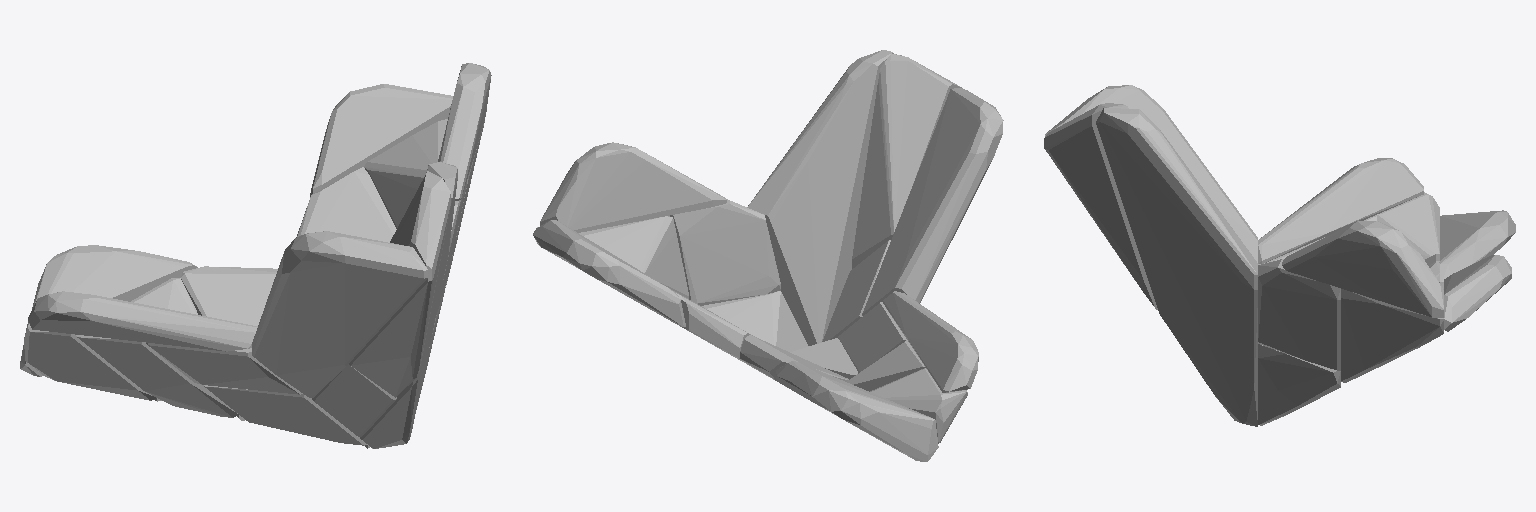
URDF robot description (root):
<robot name="root">
  <link name="link_thingiverse~corner_protector_1347877_convex_piece_0">
    <inertial>
      <origin rpy="0 0 0" xyz="0 0 0"/>
      <mass value="3.27E-03"/>
      <inertia ixx="1.69E-06" ixy="6.46E-07" ixz="-3.45E-07" iyy="8.53E-07" iyz="-6.84E-07" izz="1.66E-06"/>
    </inertial>
    <visual>
      <origin rpy="0 0 0" xyz="0 0 0"/>
      <geometry>
        <mesh filename="thingiverse~corner_protector_1347877_convex_piece_0.obj" scale="1.0000E+00 1.0000E+00 1.0000E+00"/>
      </geometry>
      <material name="">
        <color rgba="7.50E-01 7.50E-01 7.50E-01 1"/>
      </material>
    </visual>
    <collision>
      <origin rpy="0 0 0" xyz="0 0 0"/>
      <geometry>
        <mesh filename="thingiverse~corner_protector_1347877_convex_piece_0.obj" scale="1.0000E+00 1.0000E+00 1.0000E+00"/>
      </geometry>
    </collision>
  </link>
  <link name="link_thingiverse~corner_protector_1347877_convex_piece_1">
    <inertial>
      <origin rpy="0 0 0" xyz="0 0 0"/>
      <mass value="4.67E-03"/>
      <inertia ixx="1.50E-06" ixy="-2.70E-07" ixz="7.62E-08" iyy="7.21E-07" iyz="-3.92E-07" izz="1.07E-06"/>
    </inertial>
    <visual>
      <origin rpy="0 0 0" xyz="0 0 0"/>
      <geometry>
        <mesh filename="thingiverse~corner_protector_1347877_convex_piece_1.obj" scale="1.0000E+00 1.0000E+00 1.0000E+00"/>
      </geometry>
      <material name="">
        <color rgba="7.50E-01 7.50E-01 7.50E-01 1"/>
      </material>
    </visual>
    <collision>
      <origin rpy="0 0 0" xyz="0 0 0"/>
      <geometry>
        <mesh filename="thingiverse~corner_protector_1347877_convex_piece_1.obj" scale="1.0000E+00 1.0000E+00 1.0000E+00"/>
      </geometry>
    </collision>
  </link>
  <joint name="link_thingiverse~corner_protector_1347877_convex_piece_1_joint" type="fixed">
    <origin rpy="0 0 0" xyz="0 0 0"/>
    <parent link="link_thingiverse~corner_protector_1347877_convex_piece_0"/>
    <child link="link_thingiverse~corner_protector_1347877_convex_piece_1"/>
  </joint>
  <link name="link_thingiverse~corner_protector_1347877_convex_piece_2">
    <inertial>
      <origin rpy="0 0 0" xyz="0 0 0"/>
      <mass value="1.67E-03"/>
      <inertia ixx="8.75E-07" ixy="-7.76E-07" ixz="1.77E-07" iyy="8.34E-07" iyz="-1.70E-07" izz="1.62E-06"/>
    </inertial>
    <visual>
      <origin rpy="0 0 0" xyz="0 0 0"/>
      <geometry>
        <mesh filename="thingiverse~corner_protector_1347877_convex_piece_2.obj" scale="1.0000E+00 1.0000E+00 1.0000E+00"/>
      </geometry>
      <material name="">
        <color rgba="7.50E-01 7.50E-01 7.50E-01 1"/>
      </material>
    </visual>
    <collision>
      <origin rpy="0 0 0" xyz="0 0 0"/>
      <geometry>
        <mesh filename="thingiverse~corner_protector_1347877_convex_piece_2.obj" scale="1.0000E+00 1.0000E+00 1.0000E+00"/>
      </geometry>
    </collision>
  </link>
  <joint name="link_thingiverse~corner_protector_1347877_convex_piece_2_joint" type="fixed">
    <origin rpy="0 0 0" xyz="0 0 0"/>
    <parent link="link_thingiverse~corner_protector_1347877_convex_piece_1"/>
    <child link="link_thingiverse~corner_protector_1347877_convex_piece_2"/>
  </joint>
  <link name="link_thingiverse~corner_protector_1347877_convex_piece_3">
    <inertial>
      <origin rpy="0 0 0" xyz="0 0 0"/>
      <mass value="1.24E-03"/>
      <inertia ixx="7.12E-07" ixy="5.57E-07" ixz="2.05E-07" iyy="6.18E-07" iyz="2.22E-07" izz="1.16E-06"/>
    </inertial>
    <visual>
      <origin rpy="0 0 0" xyz="0 0 0"/>
      <geometry>
        <mesh filename="thingiverse~corner_protector_1347877_convex_piece_3.obj" scale="1.0000E+00 1.0000E+00 1.0000E+00"/>
      </geometry>
      <material name="">
        <color rgba="7.50E-01 7.50E-01 7.50E-01 1"/>
      </material>
    </visual>
    <collision>
      <origin rpy="0 0 0" xyz="0 0 0"/>
      <geometry>
        <mesh filename="thingiverse~corner_protector_1347877_convex_piece_3.obj" scale="1.0000E+00 1.0000E+00 1.0000E+00"/>
      </geometry>
    </collision>
  </link>
  <joint name="link_thingiverse~corner_protector_1347877_convex_piece_3_joint" type="fixed">
    <origin rpy="0 0 0" xyz="0 0 0"/>
    <parent link="link_thingiverse~corner_protector_1347877_convex_piece_2"/>
    <child link="link_thingiverse~corner_protector_1347877_convex_piece_3"/>
  </joint>
  <link name="link_thingiverse~corner_protector_1347877_convex_piece_4">
    <inertial>
      <origin rpy="0 0 0" xyz="0 0 0"/>
      <mass value="2.92E-03"/>
      <inertia ixx="2.06E-06" ixy="1.58E-07" ixz="-7.18E-08" iyy="5.12E-07" iyz="-7.76E-07" izz="1.60E-06"/>
    </inertial>
    <visual>
      <origin rpy="0 0 0" xyz="0 0 0"/>
      <geometry>
        <mesh filename="thingiverse~corner_protector_1347877_convex_piece_4.obj" scale="1.0000E+00 1.0000E+00 1.0000E+00"/>
      </geometry>
      <material name="">
        <color rgba="7.50E-01 7.50E-01 7.50E-01 1"/>
      </material>
    </visual>
    <collision>
      <origin rpy="0 0 0" xyz="0 0 0"/>
      <geometry>
        <mesh filename="thingiverse~corner_protector_1347877_convex_piece_4.obj" scale="1.0000E+00 1.0000E+00 1.0000E+00"/>
      </geometry>
    </collision>
  </link>
  <joint name="link_thingiverse~corner_protector_1347877_convex_piece_4_joint" type="fixed">
    <origin rpy="0 0 0" xyz="0 0 0"/>
    <parent link="link_thingiverse~corner_protector_1347877_convex_piece_3"/>
    <child link="link_thingiverse~corner_protector_1347877_convex_piece_4"/>
  </joint>
  <link name="link_thingiverse~corner_protector_1347877_convex_piece_5">
    <inertial>
      <origin rpy="0 0 0" xyz="0 0 0"/>
      <mass value="7.69E-04"/>
      <inertia ixx="1.32E-07" ixy="1.91E-08" ixz="9.74E-09" iyy="5.36E-08" iyz="4.86E-08" izz="9.35E-08"/>
    </inertial>
    <visual>
      <origin rpy="0 0 0" xyz="0 0 0"/>
      <geometry>
        <mesh filename="thingiverse~corner_protector_1347877_convex_piece_5.obj" scale="1.0000E+00 1.0000E+00 1.0000E+00"/>
      </geometry>
      <material name="">
        <color rgba="7.50E-01 7.50E-01 7.50E-01 1"/>
      </material>
    </visual>
    <collision>
      <origin rpy="0 0 0" xyz="0 0 0"/>
      <geometry>
        <mesh filename="thingiverse~corner_protector_1347877_convex_piece_5.obj" scale="1.0000E+00 1.0000E+00 1.0000E+00"/>
      </geometry>
    </collision>
  </link>
  <joint name="link_thingiverse~corner_protector_1347877_convex_piece_5_joint" type="fixed">
    <origin rpy="0 0 0" xyz="0 0 0"/>
    <parent link="link_thingiverse~corner_protector_1347877_convex_piece_4"/>
    <child link="link_thingiverse~corner_protector_1347877_convex_piece_5"/>
  </joint>
  <link name="link_thingiverse~corner_protector_1347877_convex_piece_6">
    <inertial>
      <origin rpy="0 0 0" xyz="0 0 0"/>
      <mass value="9.07E-04"/>
      <inertia ixx="5.36E-08" ixy="-1.50E-07" ixz="5.16E-10" iyy="5.92E-07" iyz="5.29E-10" izz="6.43E-07"/>
    </inertial>
    <visual>
      <origin rpy="0 0 0" xyz="0 0 0"/>
      <geometry>
        <mesh filename="thingiverse~corner_protector_1347877_convex_piece_6.obj" scale="1.0000E+00 1.0000E+00 1.0000E+00"/>
      </geometry>
      <material name="">
        <color rgba="7.50E-01 7.50E-01 7.50E-01 1"/>
      </material>
    </visual>
    <collision>
      <origin rpy="0 0 0" xyz="0 0 0"/>
      <geometry>
        <mesh filename="thingiverse~corner_protector_1347877_convex_piece_6.obj" scale="1.0000E+00 1.0000E+00 1.0000E+00"/>
      </geometry>
    </collision>
  </link>
  <joint name="link_thingiverse~corner_protector_1347877_convex_piece_6_joint" type="fixed">
    <origin rpy="0 0 0" xyz="0 0 0"/>
    <parent link="link_thingiverse~corner_protector_1347877_convex_piece_5"/>
    <child link="link_thingiverse~corner_protector_1347877_convex_piece_6"/>
  </joint>
  <link name="link_thingiverse~corner_protector_1347877_convex_piece_7">
    <inertial>
      <origin rpy="0 0 0" xyz="0 0 0"/>
      <mass value="1.43E-03"/>
      <inertia ixx="4.38E-07" ixy="3.54E-07" ixz="4.83E-07" iyy="1.16E-06" iyz="1.86E-07" izz="1.04E-06"/>
    </inertial>
    <visual>
      <origin rpy="0 0 0" xyz="0 0 0"/>
      <geometry>
        <mesh filename="thingiverse~corner_protector_1347877_convex_piece_7.obj" scale="1.0000E+00 1.0000E+00 1.0000E+00"/>
      </geometry>
      <material name="">
        <color rgba="7.50E-01 7.50E-01 7.50E-01 1"/>
      </material>
    </visual>
    <collision>
      <origin rpy="0 0 0" xyz="0 0 0"/>
      <geometry>
        <mesh filename="thingiverse~corner_protector_1347877_convex_piece_7.obj" scale="1.0000E+00 1.0000E+00 1.0000E+00"/>
      </geometry>
    </collision>
  </link>
  <joint name="link_thingiverse~corner_protector_1347877_convex_piece_7_joint" type="fixed">
    <origin rpy="0 0 0" xyz="0 0 0"/>
    <parent link="link_thingiverse~corner_protector_1347877_convex_piece_6"/>
    <child link="link_thingiverse~corner_protector_1347877_convex_piece_7"/>
  </joint>
  <link name="link_thingiverse~corner_protector_1347877_convex_piece_8">
    <inertial>
      <origin rpy="0 0 0" xyz="0 0 0"/>
      <mass value="1.43E-03"/>
      <inertia ixx="2.53E-07" ixy="-3.18E-09" ixz="6.80E-08" iyy="2.85E-07" iyz="8.06E-09" izz="5.25E-08"/>
    </inertial>
    <visual>
      <origin rpy="0 0 0" xyz="0 0 0"/>
      <geometry>
        <mesh filename="thingiverse~corner_protector_1347877_convex_piece_8.obj" scale="1.0000E+00 1.0000E+00 1.0000E+00"/>
      </geometry>
      <material name="">
        <color rgba="7.50E-01 7.50E-01 7.50E-01 1"/>
      </material>
    </visual>
    <collision>
      <origin rpy="0 0 0" xyz="0 0 0"/>
      <geometry>
        <mesh filename="thingiverse~corner_protector_1347877_convex_piece_8.obj" scale="1.0000E+00 1.0000E+00 1.0000E+00"/>
      </geometry>
    </collision>
  </link>
  <joint name="link_thingiverse~corner_protector_1347877_convex_piece_8_joint" type="fixed">
    <origin rpy="0 0 0" xyz="0 0 0"/>
    <parent link="link_thingiverse~corner_protector_1347877_convex_piece_7"/>
    <child link="link_thingiverse~corner_protector_1347877_convex_piece_8"/>
  </joint>
  <link name="link_thingiverse~corner_protector_1347877_convex_piece_9">
    <inertial>
      <origin rpy="0 0 0" xyz="0 0 0"/>
      <mass value="9.46E-04"/>
      <inertia ixx="4.32E-08" ixy="4.73E-09" ixz="6.64E-08" iyy="2.11E-07" iyz="5.09E-09" izz="1.84E-07"/>
    </inertial>
    <visual>
      <origin rpy="0 0 0" xyz="0 0 0"/>
      <geometry>
        <mesh filename="thingiverse~corner_protector_1347877_convex_piece_9.obj" scale="1.0000E+00 1.0000E+00 1.0000E+00"/>
      </geometry>
      <material name="">
        <color rgba="7.50E-01 7.50E-01 7.50E-01 1"/>
      </material>
    </visual>
    <collision>
      <origin rpy="0 0 0" xyz="0 0 0"/>
      <geometry>
        <mesh filename="thingiverse~corner_protector_1347877_convex_piece_9.obj" scale="1.0000E+00 1.0000E+00 1.0000E+00"/>
      </geometry>
    </collision>
  </link>
  <joint name="link_thingiverse~corner_protector_1347877_convex_piece_9_joint" type="fixed">
    <origin rpy="0 0 0" xyz="0 0 0"/>
    <parent link="link_thingiverse~corner_protector_1347877_convex_piece_8"/>
    <child link="link_thingiverse~corner_protector_1347877_convex_piece_9"/>
  </joint>
  <link name="link_thingiverse~corner_protector_1347877_convex_piece_10">
    <inertial>
      <origin rpy="0 0 0" xyz="0 0 0"/>
      <mass value="1.81E-03"/>
      <inertia ixx="3.59E-07" ixy="-9.38E-08" ixz="7.53E-08" iyy="2.03E-07" iyz="-1.36E-07" izz="2.87E-07"/>
    </inertial>
    <visual>
      <origin rpy="0 0 0" xyz="0 0 0"/>
      <geometry>
        <mesh filename="thingiverse~corner_protector_1347877_convex_piece_10.obj" scale="1.0000E+00 1.0000E+00 1.0000E+00"/>
      </geometry>
      <material name="">
        <color rgba="7.50E-01 7.50E-01 7.50E-01 1"/>
      </material>
    </visual>
    <collision>
      <origin rpy="0 0 0" xyz="0 0 0"/>
      <geometry>
        <mesh filename="thingiverse~corner_protector_1347877_convex_piece_10.obj" scale="1.0000E+00 1.0000E+00 1.0000E+00"/>
      </geometry>
    </collision>
  </link>
  <joint name="link_thingiverse~corner_protector_1347877_convex_piece_10_joint" type="fixed">
    <origin rpy="0 0 0" xyz="0 0 0"/>
    <parent link="link_thingiverse~corner_protector_1347877_convex_piece_9"/>
    <child link="link_thingiverse~corner_protector_1347877_convex_piece_10"/>
  </joint>
  <link name="link_thingiverse~corner_protector_1347877_convex_piece_11">
    <inertial>
      <origin rpy="0 0 0" xyz="0 0 0"/>
      <mass value="2.25E-03"/>
      <inertia ixx="2.59E-07" ixy="7.89E-10" ixz="-1.71E-07" iyy="4.29E-07" iyz="1.56E-08" izz="2.14E-07"/>
    </inertial>
    <visual>
      <origin rpy="0 0 0" xyz="0 0 0"/>
      <geometry>
        <mesh filename="thingiverse~corner_protector_1347877_convex_piece_11.obj" scale="1.0000E+00 1.0000E+00 1.0000E+00"/>
      </geometry>
      <material name="">
        <color rgba="7.50E-01 7.50E-01 7.50E-01 1"/>
      </material>
    </visual>
    <collision>
      <origin rpy="0 0 0" xyz="0 0 0"/>
      <geometry>
        <mesh filename="thingiverse~corner_protector_1347877_convex_piece_11.obj" scale="1.0000E+00 1.0000E+00 1.0000E+00"/>
      </geometry>
    </collision>
  </link>
  <joint name="link_thingiverse~corner_protector_1347877_convex_piece_11_joint" type="fixed">
    <origin rpy="0 0 0" xyz="0 0 0"/>
    <parent link="link_thingiverse~corner_protector_1347877_convex_piece_10"/>
    <child link="link_thingiverse~corner_protector_1347877_convex_piece_11"/>
  </joint>
  <link name="link_thingiverse~corner_protector_1347877_convex_piece_12">
    <inertial>
      <origin rpy="0 0 0" xyz="0 0 0"/>
      <mass value="1.43E-03"/>
      <inertia ixx="4.50E-08" ixy="1.01E-08" ixz="6.05E-08" iyy="3.64E-07" iyz="8.79E-10" izz="3.47E-07"/>
    </inertial>
    <visual>
      <origin rpy="0 0 0" xyz="0 0 0"/>
      <geometry>
        <mesh filename="thingiverse~corner_protector_1347877_convex_piece_12.obj" scale="1.0000E+00 1.0000E+00 1.0000E+00"/>
      </geometry>
      <material name="">
        <color rgba="7.50E-01 7.50E-01 7.50E-01 1"/>
      </material>
    </visual>
    <collision>
      <origin rpy="0 0 0" xyz="0 0 0"/>
      <geometry>
        <mesh filename="thingiverse~corner_protector_1347877_convex_piece_12.obj" scale="1.0000E+00 1.0000E+00 1.0000E+00"/>
      </geometry>
    </collision>
  </link>
  <joint name="link_thingiverse~corner_protector_1347877_convex_piece_12_joint" type="fixed">
    <origin rpy="0 0 0" xyz="0 0 0"/>
    <parent link="link_thingiverse~corner_protector_1347877_convex_piece_11"/>
    <child link="link_thingiverse~corner_protector_1347877_convex_piece_12"/>
  </joint>
  <link name="link_thingiverse~corner_protector_1347877_convex_piece_13">
    <inertial>
      <origin rpy="0 0 0" xyz="0 0 0"/>
      <mass value="1.70E-03"/>
      <inertia ixx="2.98E-07" ixy="1.93E-07" ixz="-3.64E-08" iyy="2.09E-07" iyz="-4.10E-08" izz="4.38E-07"/>
    </inertial>
    <visual>
      <origin rpy="0 0 0" xyz="0 0 0"/>
      <geometry>
        <mesh filename="thingiverse~corner_protector_1347877_convex_piece_13.obj" scale="1.0000E+00 1.0000E+00 1.0000E+00"/>
      </geometry>
      <material name="">
        <color rgba="7.50E-01 7.50E-01 7.50E-01 1"/>
      </material>
    </visual>
    <collision>
      <origin rpy="0 0 0" xyz="0 0 0"/>
      <geometry>
        <mesh filename="thingiverse~corner_protector_1347877_convex_piece_13.obj" scale="1.0000E+00 1.0000E+00 1.0000E+00"/>
      </geometry>
    </collision>
  </link>
  <joint name="link_thingiverse~corner_protector_1347877_convex_piece_13_joint" type="fixed">
    <origin rpy="0 0 0" xyz="0 0 0"/>
    <parent link="link_thingiverse~corner_protector_1347877_convex_piece_12"/>
    <child link="link_thingiverse~corner_protector_1347877_convex_piece_13"/>
  </joint>
  <link name="link_thingiverse~corner_protector_1347877_convex_piece_14">
    <inertial>
      <origin rpy="0 0 0" xyz="0 0 0"/>
      <mass value="2.69E-03"/>
      <inertia ixx="5.19E-07" ixy="7.26E-07" ixz="2.46E-07" iyy="1.36E-06" iyz="1.44E-07" izz="1.73E-06"/>
    </inertial>
    <visual>
      <origin rpy="0 0 0" xyz="0 0 0"/>
      <geometry>
        <mesh filename="thingiverse~corner_protector_1347877_convex_piece_14.obj" scale="1.0000E+00 1.0000E+00 1.0000E+00"/>
      </geometry>
      <material name="">
        <color rgba="7.50E-01 7.50E-01 7.50E-01 1"/>
      </material>
    </visual>
    <collision>
      <origin rpy="0 0 0" xyz="0 0 0"/>
      <geometry>
        <mesh filename="thingiverse~corner_protector_1347877_convex_piece_14.obj" scale="1.0000E+00 1.0000E+00 1.0000E+00"/>
      </geometry>
    </collision>
  </link>
  <joint name="link_thingiverse~corner_protector_1347877_convex_piece_14_joint" type="fixed">
    <origin rpy="0 0 0" xyz="0 0 0"/>
    <parent link="link_thingiverse~corner_protector_1347877_convex_piece_13"/>
    <child link="link_thingiverse~corner_protector_1347877_convex_piece_14"/>
  </joint>
  <link name="link_thingiverse~corner_protector_1347877_convex_piece_15">
    <inertial>
      <origin rpy="0 0 0" xyz="0 0 0"/>
      <mass value="1.32E-03"/>
      <inertia ixx="1.76E-07" ixy="-1.74E-07" ixz="1.78E-07" iyy="5.48E-07" iyz="-7.85E-08" izz="5.19E-07"/>
    </inertial>
    <visual>
      <origin rpy="0 0 0" xyz="0 0 0"/>
      <geometry>
        <mesh filename="thingiverse~corner_protector_1347877_convex_piece_15.obj" scale="1.0000E+00 1.0000E+00 1.0000E+00"/>
      </geometry>
      <material name="">
        <color rgba="7.50E-01 7.50E-01 7.50E-01 1"/>
      </material>
    </visual>
    <collision>
      <origin rpy="0 0 0" xyz="0 0 0"/>
      <geometry>
        <mesh filename="thingiverse~corner_protector_1347877_convex_piece_15.obj" scale="1.0000E+00 1.0000E+00 1.0000E+00"/>
      </geometry>
    </collision>
  </link>
  <joint name="link_thingiverse~corner_protector_1347877_convex_piece_15_joint" type="fixed">
    <origin rpy="0 0 0" xyz="0 0 0"/>
    <parent link="link_thingiverse~corner_protector_1347877_convex_piece_14"/>
    <child link="link_thingiverse~corner_protector_1347877_convex_piece_15"/>
  </joint>
  <link name="link_thingiverse~corner_protector_1347877_convex_piece_16">
    <inertial>
      <origin rpy="0 0 0" xyz="0 0 0"/>
      <mass value="1.63E-03"/>
      <inertia ixx="4.60E-07" ixy="-6.08E-07" ixz="2.88E-07" iyy="1.16E-06" iyz="-1.74E-07" izz="1.42E-06"/>
    </inertial>
    <visual>
      <origin rpy="0 0 0" xyz="0 0 0"/>
      <geometry>
        <mesh filename="thingiverse~corner_protector_1347877_convex_piece_16.obj" scale="1.0000E+00 1.0000E+00 1.0000E+00"/>
      </geometry>
      <material name="">
        <color rgba="7.50E-01 7.50E-01 7.50E-01 1"/>
      </material>
    </visual>
    <collision>
      <origin rpy="0 0 0" xyz="0 0 0"/>
      <geometry>
        <mesh filename="thingiverse~corner_protector_1347877_convex_piece_16.obj" scale="1.0000E+00 1.0000E+00 1.0000E+00"/>
      </geometry>
    </collision>
  </link>
  <joint name="link_thingiverse~corner_protector_1347877_convex_piece_16_joint" type="fixed">
    <origin rpy="0 0 0" xyz="0 0 0"/>
    <parent link="link_thingiverse~corner_protector_1347877_convex_piece_15"/>
    <child link="link_thingiverse~corner_protector_1347877_convex_piece_16"/>
  </joint>
  <link name="link_thingiverse~corner_protector_1347877_convex_piece_17">
    <inertial>
      <origin rpy="0 0 0" xyz="0 0 0"/>
      <mass value="6.97E-04"/>
      <inertia ixx="2.01E-07" ixy="-1.47E-07" ixz="8.78E-08" iyy="2.09E-07" iyz="-8.17E-08" izz="3.02E-07"/>
    </inertial>
    <visual>
      <origin rpy="0 0 0" xyz="0 0 0"/>
      <geometry>
        <mesh filename="thingiverse~corner_protector_1347877_convex_piece_17.obj" scale="1.0000E+00 1.0000E+00 1.0000E+00"/>
      </geometry>
      <material name="">
        <color rgba="7.50E-01 7.50E-01 7.50E-01 1"/>
      </material>
    </visual>
    <collision>
      <origin rpy="0 0 0" xyz="0 0 0"/>
      <geometry>
        <mesh filename="thingiverse~corner_protector_1347877_convex_piece_17.obj" scale="1.0000E+00 1.0000E+00 1.0000E+00"/>
      </geometry>
    </collision>
  </link>
  <joint name="link_thingiverse~corner_protector_1347877_convex_piece_17_joint" type="fixed">
    <origin rpy="0 0 0" xyz="0 0 0"/>
    <parent link="link_thingiverse~corner_protector_1347877_convex_piece_16"/>
    <child link="link_thingiverse~corner_protector_1347877_convex_piece_17"/>
  </joint>
</robot>

--- Facts derived from the render (not from the file) ---
3 views of the same robot in one strip: view 1: azimuth 30°, elevation 25°; view 2: azimuth 150°, elevation 25°; view 3: azimuth 270°, elevation 25° (orthographic).
Model root with 18 links and 17 joints (17 fixed), rooted at link_thingiverse~corner_protector_1347877_convex_piece_0, posed all joints at 0.
Visible links, largest first — view 1: link_thingiverse~corner_protector_1347877_convex_piece_0, link_thingiverse~corner_protector_1347877_convex_piece_4, link_thingiverse~corner_protector_1347877_convex_piece_6, link_thingiverse~corner_protector_1347877_convex_piece_3, link_thingiverse~corner_protector_1347877_convex_piece_2, link_thingiverse~corner_protector_1347877_convex_piece_15, link_thingiverse~corner_protector_1347877_convex_piece_13, link_thingiverse~corner_protector_1347877_convex_piece_16, link_thingiverse~corner_protector_1347877_convex_piece_14, link_thingiverse~corner_protector_1347877_convex_piece_10, link_thingiverse~corner_protector_1347877_convex_piece_8, link_thingiverse~corner_protector_1347877_convex_piece_9 (+5 smaller); view 2: link_thingiverse~corner_protector_1347877_convex_piece_1, link_thingiverse~corner_protector_1347877_convex_piece_0, link_thingiverse~corner_protector_1347877_convex_piece_4, link_thingiverse~corner_protector_1347877_convex_piece_7, link_thingiverse~corner_protector_1347877_convex_piece_12, link_thingiverse~corner_protector_1347877_convex_piece_2, link_thingiverse~corner_protector_1347877_convex_piece_3, link_thingiverse~corner_protector_1347877_convex_piece_6, link_thingiverse~corner_protector_1347877_convex_piece_14, link_thingiverse~corner_protector_1347877_convex_piece_11, link_thingiverse~corner_protector_1347877_convex_piece_16, link_thingiverse~corner_protector_1347877_convex_piece_9 (+5 smaller); view 3: link_thingiverse~corner_protector_1347877_convex_piece_1, link_thingiverse~corner_protector_1347877_convex_piece_7, link_thingiverse~corner_protector_1347877_convex_piece_6, link_thingiverse~corner_protector_1347877_convex_piece_12, link_thingiverse~corner_protector_1347877_convex_piece_4, link_thingiverse~corner_protector_1347877_convex_piece_14, link_thingiverse~corner_protector_1347877_convex_piece_11, link_thingiverse~corner_protector_1347877_convex_piece_0, link_thingiverse~corner_protector_1347877_convex_piece_2, link_thingiverse~corner_protector_1347877_convex_piece_3, link_thingiverse~corner_protector_1347877_convex_piece_16.
Link boxes in pixels (left/top/right/bottom): link_thingiverse~corner_protector_1347877_convex_piece_0: left=252, top=231, right=427, bottom=397; link_thingiverse~corner_protector_1347877_convex_piece_4: left=349, top=171, right=450, bottom=397; link_thingiverse~corner_protector_1347877_convex_piece_6: left=28, top=291, right=257, bottom=351; link_thingiverse~corner_protector_1347877_convex_piece_3: left=310, top=84, right=452, bottom=196; link_thingiverse~corner_protector_1347877_convex_piece_2: left=20, top=245, right=197, bottom=376; link_thingiverse~corner_protector_1347877_convex_piece_15: left=76, top=335, right=238, bottom=417; link_thingiverse~corner_protector_1347877_convex_piece_13: left=296, top=167, right=396, bottom=242; link_thingiverse~corner_protector_1347877_convex_piece_16: left=24, top=321, right=155, bottom=400; link_thingiverse~corner_protector_1347877_convex_piece_14: left=364, top=119, right=484, bottom=284; link_thingiverse~corner_protector_1347877_convex_piece_10: left=181, top=266, right=277, bottom=420; link_thingiverse~corner_protector_1347877_convex_piece_8: left=204, top=385, right=366, bottom=445; link_thingiverse~corner_protector_1347877_convex_piece_9: left=146, top=343, right=302, bottom=394; link_thingiverse~corner_protector_1347877_convex_piece_1: left=747, top=50, right=893, bottom=345; link_thingiverse~corner_protector_1347877_convex_piece_0: left=862, top=88, right=1003, bottom=315; link_thingiverse~corner_protector_1347877_convex_piece_4: left=852, top=53, right=961, bottom=268; link_thingiverse~corner_protector_1347877_convex_piece_7: left=540, top=142, right=726, bottom=232; link_thingiverse~corner_protector_1347877_convex_piece_12: left=670, top=199, right=780, bottom=305; link_thingiverse~corner_protector_1347877_convex_piece_2: left=775, top=361, right=938, bottom=461; link_thingiverse~corner_protector_1347877_convex_piece_3: left=533, top=220, right=685, bottom=326; link_thingiverse~corner_protector_1347877_convex_piece_6: left=883, top=291, right=978, bottom=392; link_thingiverse~corner_protector_1347877_convex_piece_14: left=537, top=216, right=688, bottom=298; link_thingiverse~corner_protector_1347877_convex_piece_11: left=702, top=291, right=808, bottom=351; link_thingiverse~corner_protector_1347877_convex_piece_16: left=870, top=368, right=967, bottom=443; link_thingiverse~corner_protector_1347877_convex_piece_9: left=838, top=302, right=907, bottom=372; link_thingiverse~corner_protector_1347877_convex_piece_1: left=1096, top=108, right=1257, bottom=426; link_thingiverse~corner_protector_1347877_convex_piece_7: left=1282, top=221, right=1443, bottom=317; link_thingiverse~corner_protector_1347877_convex_piece_6: left=1258, top=158, right=1423, bottom=263; link_thingiverse~corner_protector_1347877_convex_piece_12: left=1258, top=259, right=1340, bottom=370; link_thingiverse~corner_protector_1347877_convex_piece_4: left=1044, top=103, right=1157, bottom=309; link_thingiverse~corner_protector_1347877_convex_piece_14: left=1341, top=289, right=1443, bottom=382; link_thingiverse~corner_protector_1347877_convex_piece_11: left=1258, top=344, right=1340, bottom=425; link_thingiverse~corner_protector_1347877_convex_piece_0: left=1045, top=85, right=1257, bottom=262; link_thingiverse~corner_protector_1347877_convex_piece_2: left=1440, top=210, right=1515, bottom=281; link_thingiverse~corner_protector_1347877_convex_piece_3: left=1444, top=255, right=1511, bottom=331; link_thingiverse~corner_protector_1347877_convex_piece_16: left=1377, top=192, right=1439, bottom=259.
Size in the robot's own frame: 0.0674 by 0.0632 by 0.0451 metres.
18 mesh visuals loaded from 18 distinct referenced files (18 OBJ).
